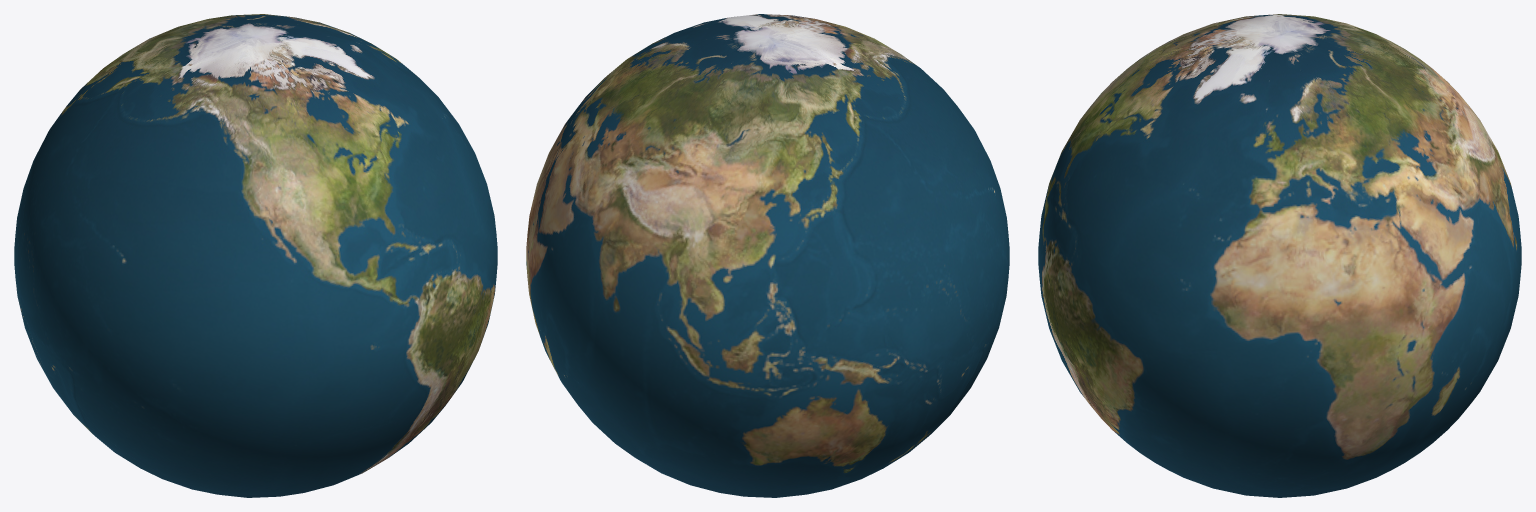
The model's file is Earth.fbx.
3 views of the same model, side by side, from view 1: azimuth 30°, elevation 25°; view 2: azimuth 150°, elevation 25°; view 3: azimuth 270°, elevation 25° (orthographic).
Parts seen in each view (by area): view 1: GeoSphere001; view 2: GeoSphere001; view 3: GeoSphere001.
Part boxes in pixels (x1,y1,x2,y2): GeoSphere001: (14, 14, 497, 497); GeoSphere001: (526, 14, 1009, 497); GeoSphere001: (1038, 14, 1521, 497).
Bounding box in the file's own units: 81.23 × 81.35 × 81.19.
1 material, 1 textured.
